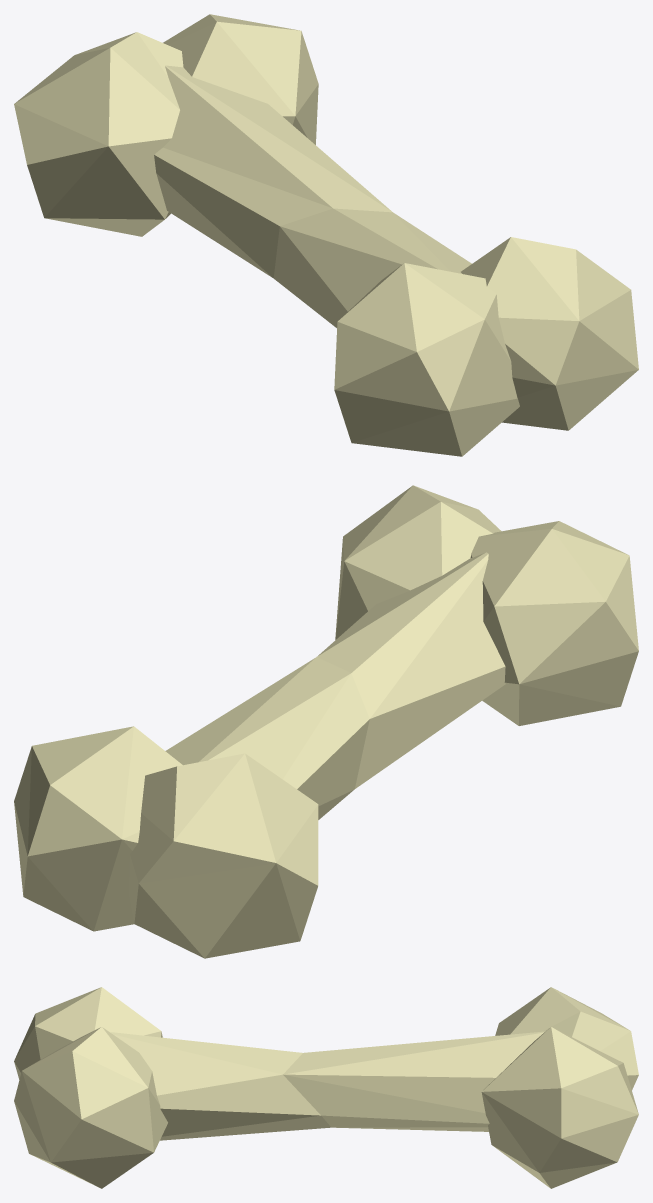
The model's file is Bone.glb.
3 renders of one model, top to bottom at view 1: azimuth 30°, elevation 25°; view 2: azimuth 150°, elevation 25°; view 3: azimuth 270°, elevation 25°, orthographic. The views are drawn at different scales.
Visible parts, largest first — view 1: Icosphere.002; view 2: Icosphere.002; view 3: Icosphere.002.
Boxes of the visible parts, x1,y1,x2,y2 form: Icosphere.002: [14, 14, 638, 456]; Icosphere.002: [14, 485, 638, 958]; Icosphere.002: [14, 987, 638, 1188].
Bounding box in the file's own units: 3.29 × 2.12 × 7.99.
